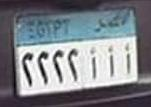2: (21, 52, 35, 86), (37, 51, 51, 84), (68, 48, 81, 82), (52, 50, 65, 84)
alif: (106, 44, 117, 79), (89, 46, 97, 81), (124, 43, 131, 75)
